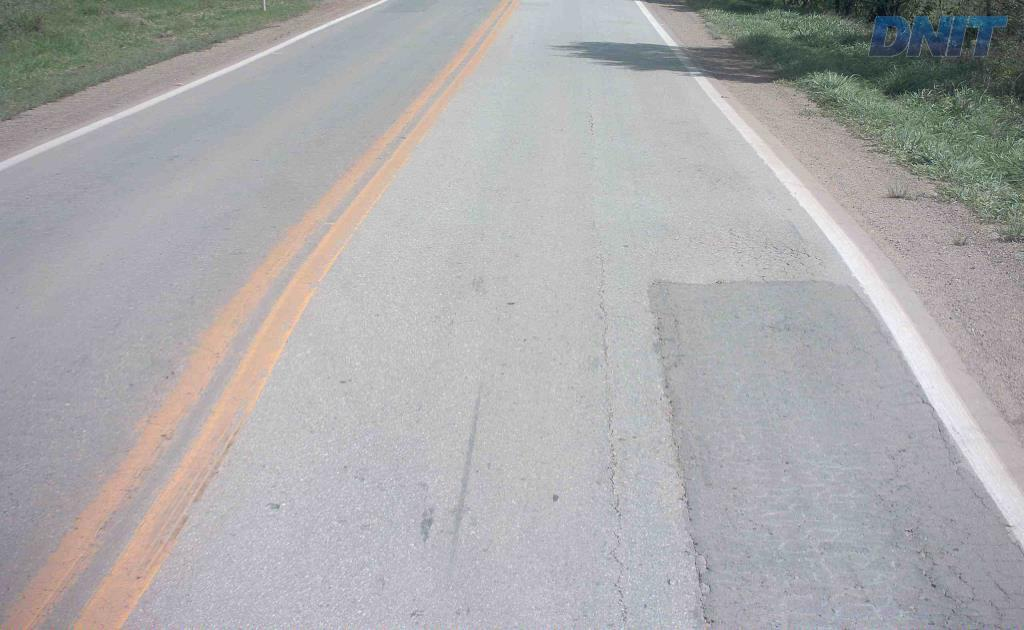crack: (689, 533, 712, 596)
